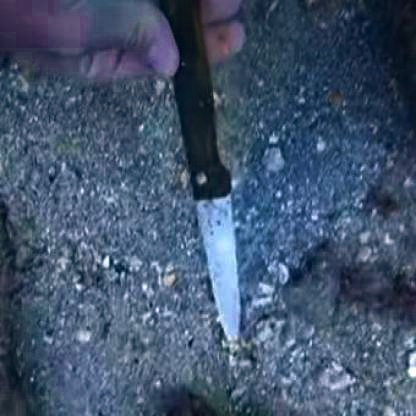misc: (152, 14, 262, 360)
